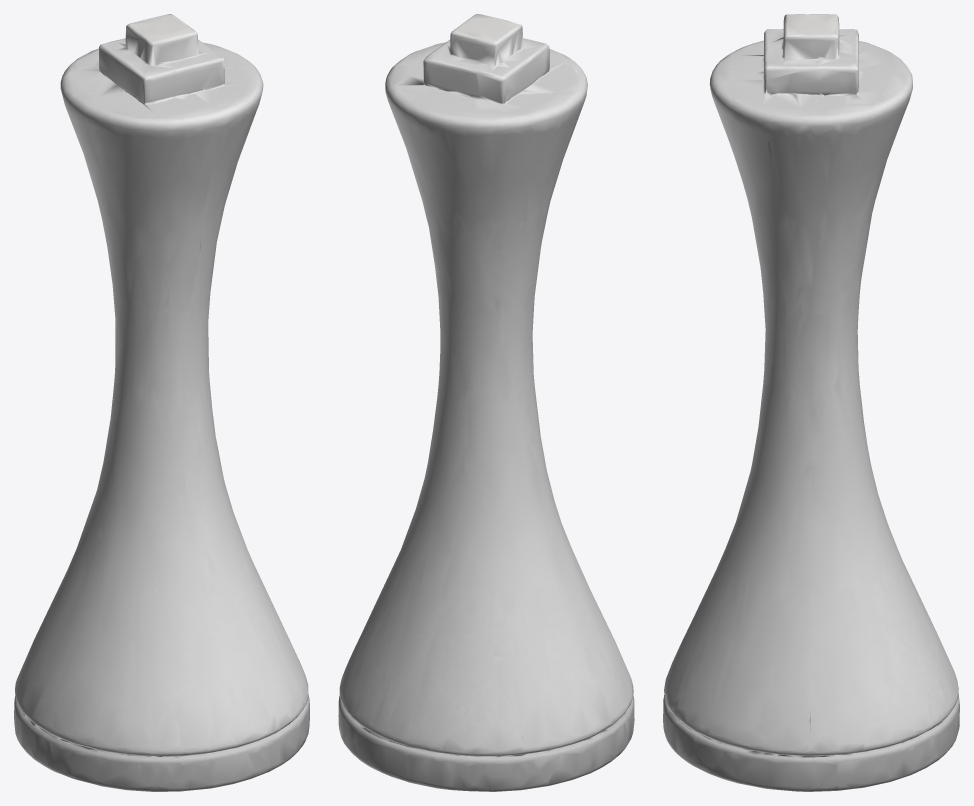
Rendered from king-white.glb.
The picture shows the model from 3 angles, left to right: view 1: azimuth 30°, elevation 25°; view 2: azimuth 150°, elevation 25°; view 3: azimuth 270°, elevation 25°; orthographic projection.
Size of the model in its own units: 0.5887 by 1.55 by 0.5889.
Materials: 1 (1 with a texture image).
